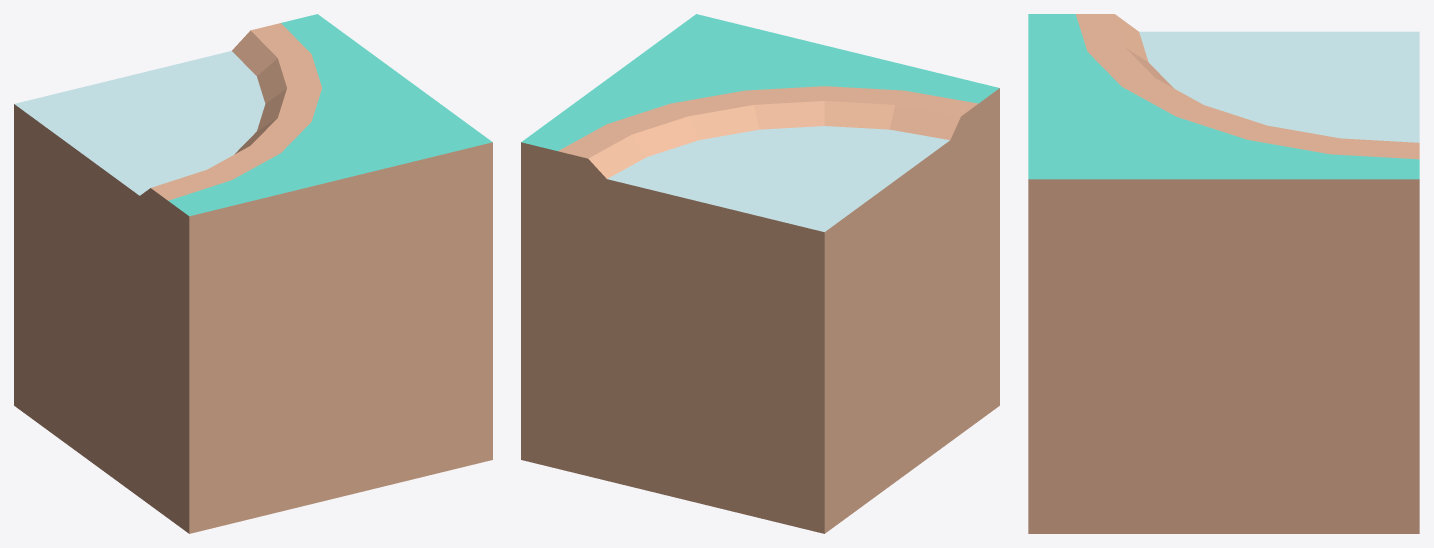
The model's file is blockRiverCornerFull.fbx.
3 renders of one model, left to right at view 1: azimuth 30°, elevation 25°; view 2: azimuth 150°, elevation 25°; view 3: azimuth 270°, elevation 25°, orthographic. The views are drawn at different scales.
Parts seen in each view (by area): view 1: blockLakeCorner; view 2: blockLakeCorner; view 3: blockLakeCorner.
Boxes of the visible parts, left/top/right/bottom form: blockLakeCorner: left=14, top=14, right=492, bottom=533; blockLakeCorner: left=521, top=14, right=999, bottom=533; blockLakeCorner: left=1028, top=14, right=1419, bottom=533.
Bounding box in the file's own units: 100 × 100 × 100.
